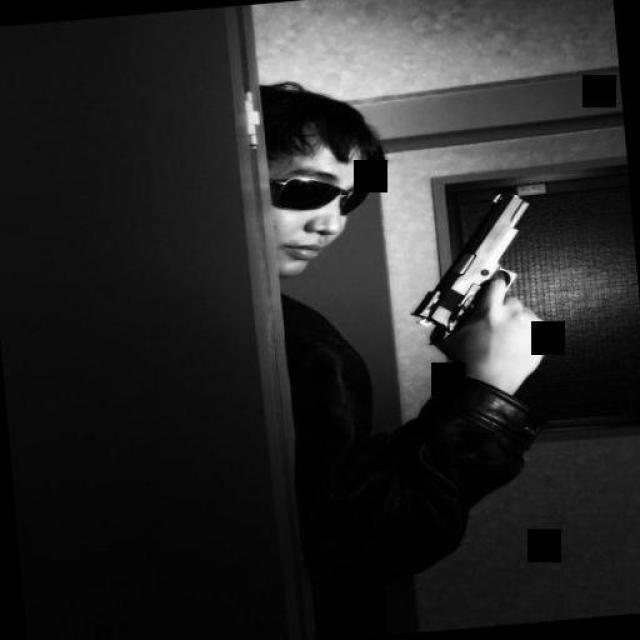gun: (398, 182, 538, 332)
